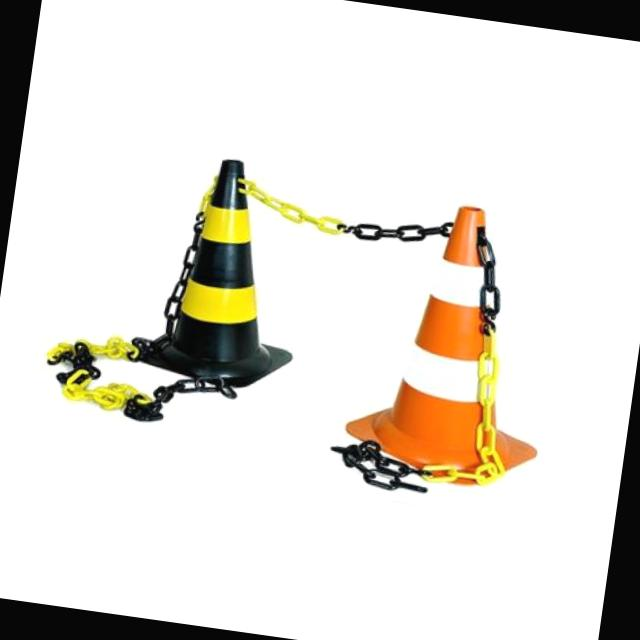cone: (377, 174, 537, 484), (155, 137, 305, 389)
